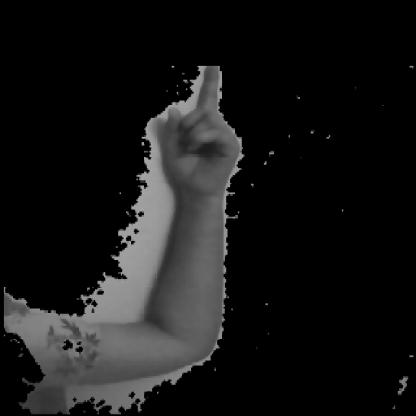one: (110, 57, 266, 343)
